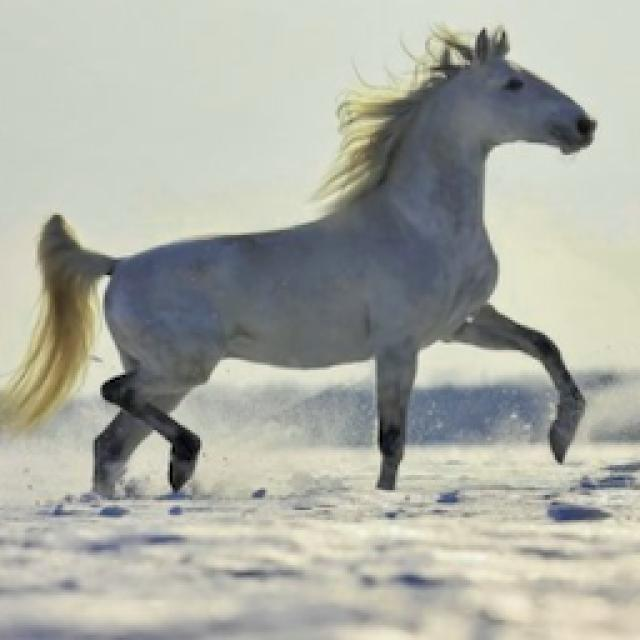Horse: (2, 20, 606, 505)
